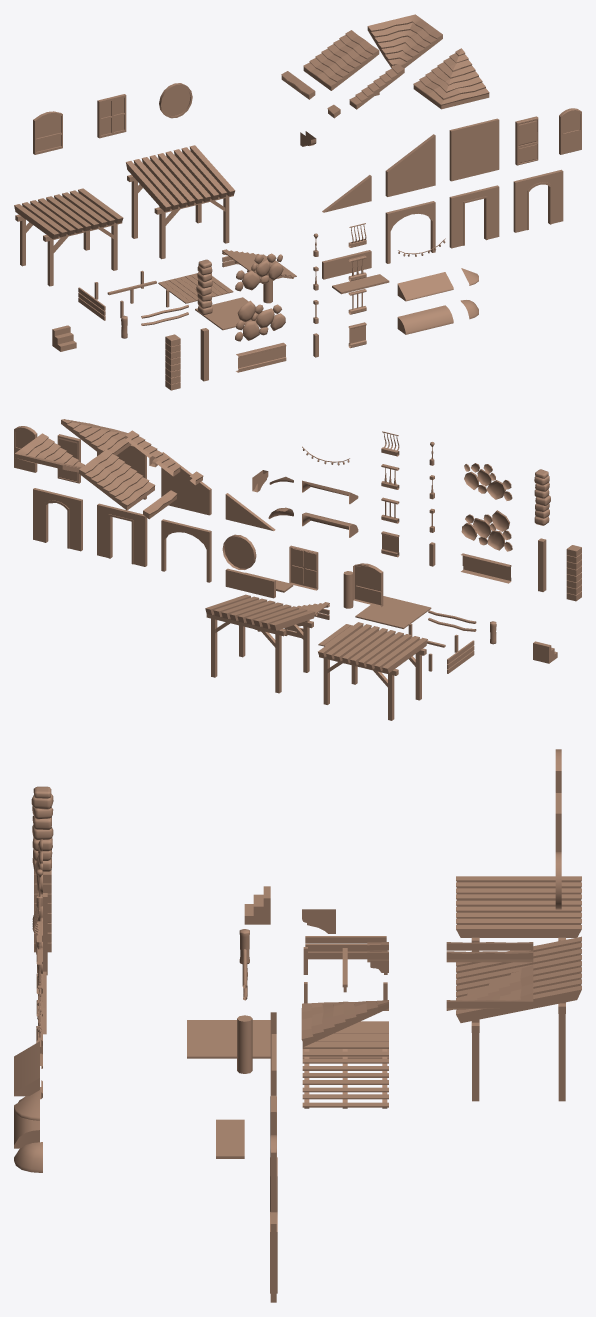
The model's file is BuildingPieces.fbx.
3 views of the same model, one above another, from view 1: azimuth 30°, elevation 25°; view 2: azimuth 150°, elevation 25°; view 3: azimuth 270°, elevation 25° (orthographic). The views are drawn at different scales.
Visible parts, largest first — view 1: TerraceTilt, Terrace, RoofOuterCorner, Wall, RoofInnerCorner, RoofSlope0, WallRoofTall, WallFramRound, WallFrameRect, WallStones, WindowSquare, WindowArch (+19 smaller); view 2: Terrace, TerraceTilt, RoofSlope0, WallFrameRect, WallFramRound, WallRoofTall, RoofInnerCorner, BoardWalk, WallStones, RoofOuterCorner, WindowArch, WindowSquare (+19 smaller); view 3: Terrace, TerraceTilt, PlankIncline, BoardWalk, RoofOuterCorner, RoofInnerCorner, PlankFloor, WoodEndPiece, StoneSuppport, Awning, Stone_Wall18, RoofSlope0 (+6 smaller).
Boxes of the visible parts, x1,y1,x2,y2 form: TerraceTilt: (126, 145, 235, 259); Terrace: (14, 188, 123, 286); RoofOuterCorner: (413, 48, 489, 109); Wall: (449, 118, 499, 181); RoofInnerCorner: (367, 14, 442, 68); RoofSlope0: (303, 30, 379, 90); WallRoofTall: (385, 134, 435, 196); WallFramRound: (513, 169, 563, 232); WallFrameRect: (449, 185, 499, 248); WallStones: (235, 300, 285, 341); WindowSquare: (97, 94, 126, 138); WindowArch: (33, 111, 62, 154); Terrace: (318, 622, 427, 720); TerraceTilt: (205, 594, 315, 693); RoofSlope0: (79, 449, 155, 510); WallFrameRect: (97, 503, 147, 566); WallFramRound: (33, 488, 82, 551); WallRoofTall: (161, 452, 211, 515); RoofInnerCorner: (14, 433, 84, 472); BoardWalk: (355, 596, 431, 628); WallStones: (461, 510, 512, 551); RoofOuterCorner: (61, 419, 131, 455); WindowArch: (353, 563, 383, 607); WindowSquare: (289, 545, 318, 590); Terrace: (456, 876, 581, 951); TerraceTilt: (456, 936, 581, 1101); PlankIncline: (302, 1044, 388, 1108); BoardWalk: (187, 1020, 270, 1058); RoofOuterCorner: (301, 1000, 388, 1047); RoofInnerCorner: (446, 965, 533, 1010); PlankFloor: (302, 1021, 388, 1058); WoodEndPiece: (305, 936, 386, 959); StoneSuppport: (31, 786, 53, 871); Awning: (14, 1041, 39, 1096); Stone_Wall18: (216, 1119, 244, 1158); RoofSlope0: (446, 951, 533, 962).
Bounding box in the file's own units: 33.18 × 9.82 × 19.69.
